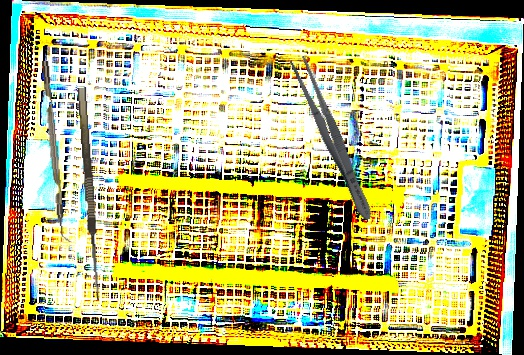Chopper: (42, 59, 73, 244)
Dressing Forceps: (286, 53, 379, 225)
Hook Surgical: (77, 86, 113, 301)
